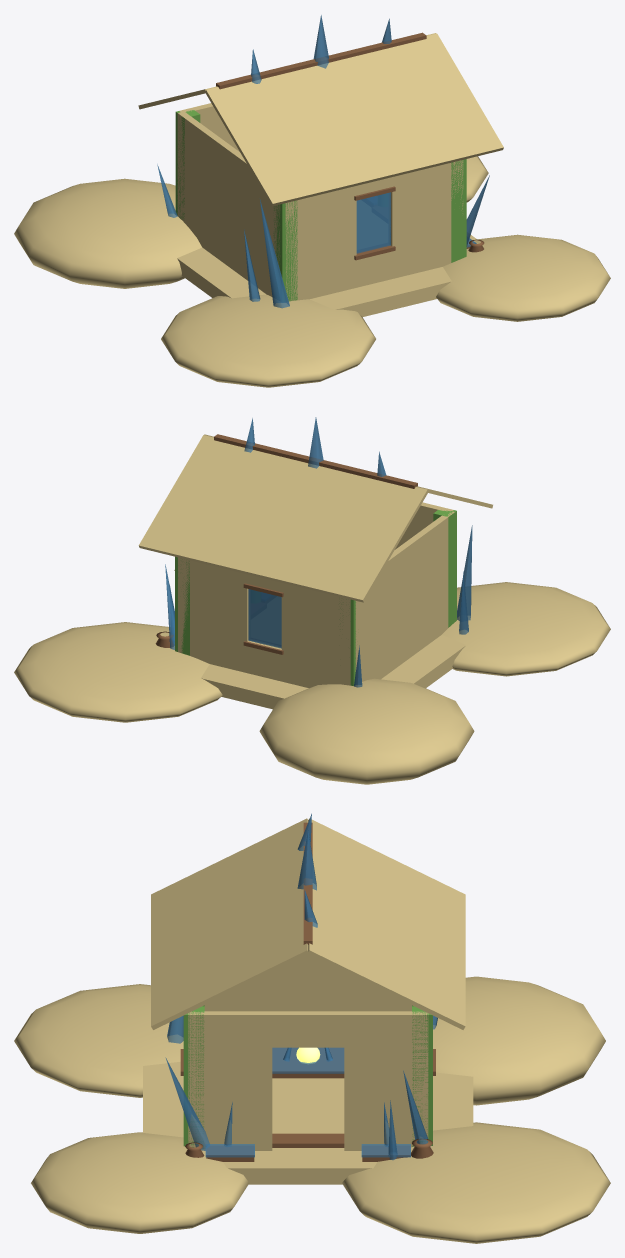
File: shrine-glass-shoal.glb
3 views of the same model, one above another, from view 1: azimuth 30°, elevation 25°; view 2: azimuth 150°, elevation 25°; view 3: azimuth 270°, elevation 25° (orthographic). The views are drawn at different scales.
Visible parts, largest first — view 1: Mesh_RoofA, Mesh_DuneBL, Mesh_DuneBR, Mesh_DuneFR, Mesh_ShrineRoom_WallBack, Mesh_ShrineRoom_WallRight_L, Mesh_ShrineRoom_WallRight_R, Mesh_DuneBase, Mesh_WindowGlassR, Mesh_PillarBR, Mesh_RidgeCap, Mesh_PillarFR (+5 smaller); view 2: Mesh_RoofB, Mesh_DuneBL, Mesh_DuneFL, Mesh_DuneBR, Mesh_ShrineRoom_WallBack, Mesh_ShrineRoom_WallLeft_R, Mesh_ShrineRoom_WallLeft_L, Mesh_DuneBase, Mesh_WindowGlassL, Mesh_RidgeCap, Mesh_PillarBR, Mesh_ShrineRoom_WallLeft_Sill (+4 smaller); view 3: Mesh_DuneFL, Mesh_RoofB, Mesh_RoofA, Mesh_DuneFR, Mesh_DuneBL, Mesh_DuneBase, Mesh_DuneBR, Mesh_ShrineRoom_WallFront_R, Mesh_ShrineRoom_WallFront_L, Mesh_ShrineRoom_WallBack, Mesh_ShrineRoom_WallFront_Lintel, Mesh_AltarBase (+11 smaller).
Part boxes in pixels (x1,y1,x2,y2): Mesh_RoofA: [205, 33, 503, 206]; Mesh_DuneBL: [14, 178, 202, 288]; Mesh_DuneBR: [161, 294, 375, 387]; Mesh_DuneFR: [436, 234, 610, 321]; Mesh_ShrineRoom_WallBack: [177, 111, 280, 296]; Mesh_ShrineRoom_WallRight_L: [285, 186, 356, 300]; Mesh_ShrineRoom_WallRight_R: [389, 160, 463, 278]; Mesh_DuneBase: [177, 234, 476, 316]; Mesh_WindowGlassR: [356, 192, 390, 253]; Mesh_PillarBR: [273, 200, 297, 301]; Mesh_RidgeCap: [216, 32, 426, 89]; Mesh_PillarFR: [451, 159, 466, 262]; Mesh_RoofB: [138, 435, 427, 602]; Mesh_DuneBL: [259, 678, 474, 784]; Mesh_DuneFL: [14, 622, 222, 722]; Mesh_DuneBR: [442, 582, 610, 676]; Mesh_ShrineRoom_WallBack: [355, 511, 454, 681]; Mesh_ShrineRoom_WallLeft_R: [178, 557, 248, 672]; Mesh_ShrineRoom_WallLeft_L: [281, 583, 350, 687]; Mesh_DuneBase: [201, 635, 465, 709]; Mesh_WindowGlassL: [248, 589, 281, 648]; Mesh_RidgeCap: [214, 434, 417, 488]; Mesh_PillarBR: [433, 510, 456, 627]; Mesh_ShrineRoom_WallLeft_Sill: [246, 640, 282, 681]; Mesh_DuneFL: [342, 1122, 610, 1243]; Mesh_RoofB: [307, 818, 465, 1029]; Mesh_RoofA: [151, 818, 308, 1029]; Mesh_DuneFR: [31, 1132, 249, 1233]; Mesh_DuneBL: [433, 976, 605, 1105]; Mesh_DuneBase: [143, 1061, 473, 1184]; Mesh_DuneBR: [14, 984, 183, 1097]; Mesh_ShrineRoom_WallFront_R: [188, 1011, 272, 1150]; Mesh_ShrineRoom_WallFront_L: [344, 1011, 428, 1150]; Mesh_ShrineRoom_WallBack: [204, 954, 411, 1011]; Mesh_ShrineRoom_WallFront_Lintel: [271, 1011, 345, 1047]; Mesh_AltarBase: [272, 1048, 344, 1078].
Size of the model in its own units: 10 by 5.83 by 9.94.
Materials: 3 (3 with a texture image).
